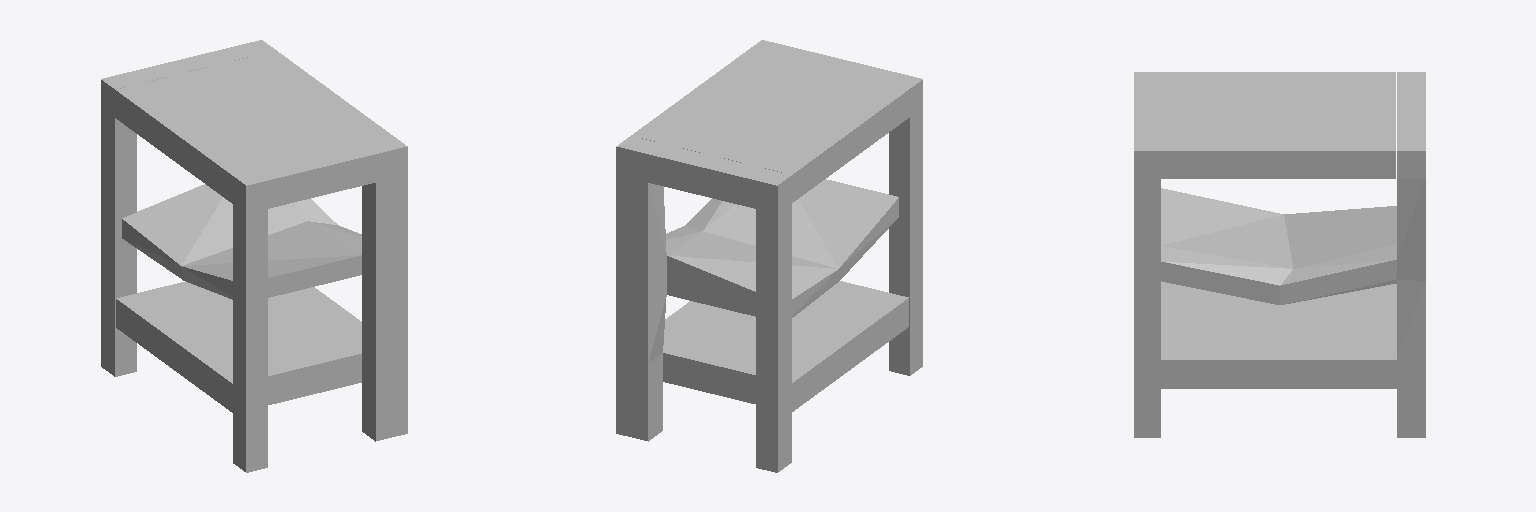
File: shelf1.obj
3 renders of one model, left to right at view 1: azimuth 30°, elevation 25°; view 2: azimuth 150°, elevation 25°; view 3: azimuth 270°, elevation 25°, orthographic.
Parts seen in each view (by area): view 1: Cube; view 2: Cube; view 3: Cube.
Boxes of the visible parts, x1=… form: Cube: x1=101, y1=40, x2=407, y2=472; Cube: x1=616, y1=40, x2=922, y2=472; Cube: x1=1134, y1=72, x2=1425, y2=437.
Size of the model in its own units: 2.86 by 4.77 by 4.39.